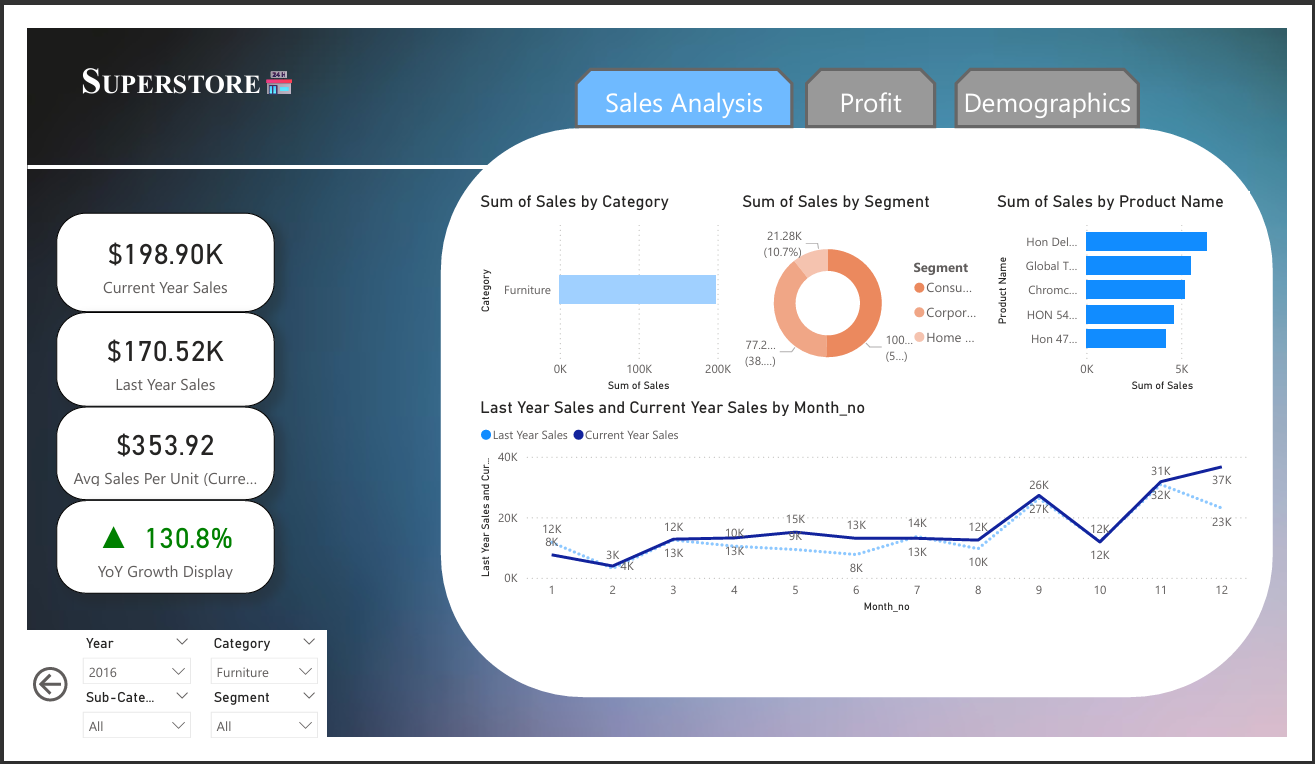

The page's visual inventory and layout, read from the dashboard file:
{"tool":"powerbi","page":{"name":"Sales Analysis","canvas":[1280,720],"ordinal":0},"visuals":[{"type":"clusteredBarChart","fields":{"Category":["orders.Category Hierarchy.Category","orders.Category Hierarchy.Sub-Category"],"Y":["Sum(orders.Sales)"]},"box":[454.6,164.9,265.4,208.7],"z":0,"group":"g2"},{"type":"group","id":"g1","title":"Group 2","box":[28.7,187.4,222.3,387.2],"z":0},{"type":"card","fields":{"Values":["Date.Current Year Sales"]},"box":[28.7,187.4,222.3,101.2],"z":0,"group":"g1"},{"type":"shape","box":[419.7,101.2,845.6,578.3],"z":1000},{"type":"donutChart","fields":{"Y":["Sum(orders.Sales)"],"Category":["orders.Segment"]},"box":[720.4,165.2,259.3,208.6],"z":1000,"group":"g2"},{"type":"card","fields":{"Values":["orders.Last Year Sales"]},"box":[28.7,288.6,222.3,96.2],"z":1000,"group":"g1"},{"type":"group","id":"g2","title":"Group 1","box":[454.6,164.9,786.9,432.2],"z":2000},{"type":"clusteredBarChart","fields":{"Y":["Sum(orders.Sales)"],"Category":["orders.Product Name"]},"box":[979.8,165.2,262.3,208.6],"z":2000,"group":"g2"},{"type":"card","fields":{"Values":["orders.Avg Sales Per Unit (Current)"]},"box":[28.7,384.7,222.3,94.9],"z":2000,"group":"g1"},{"type":"lineChart","fields":{"Category":["orders.Month_no"],"Y":["orders.Last Year Sales","Date.Current Year Sales"]},"box":[454.6,373.6,787.8,224.4],"z":3000,"group":"g2"},{"type":"card","fields":{"Values":["orders.YoY Growth Display"]},"box":[28.7,479.7,222.3,94.9],"z":3000,"group":"g1"},{"type":"textbox","box":[0,26.2,328.5,63.7],"z":4000},{"type":"shape","box":[0,76.2,478.4,128.6],"z":5000},{"type":"shape","box":[0,597.2,305.1,121.5],"z":6000},{"type":"shape","box":[556.2,39.8,222,61.5],"z":7000},{"type":"shape","box":[790.2,39.8,132.7,61.5],"z":8000},{"type":"shape","box":[942.2,39.8,188.2,61.5],"z":9000}]}

Visuals, with their boxes on the page's 1280x720 design canvas (x1, y1, x2, y2). These are canvas units, not pixel positions in the 1315x764 screenshot, which may show the page scaled, cropped or inside an application window:
clusteredBarChart - orders.Category Hierarchy.Category x orders.Category Hierarchy.Sub-Category: select_region(455, 165, 720, 374)
"Group 2" group: select_region(29, 187, 251, 575)
card - Date.Current Year Sales: select_region(29, 187, 251, 289)
shape: select_region(420, 101, 1265, 680)
donutChart - Sum(orders.Sales) x orders.Segment: select_region(720, 165, 980, 374)
card - orders.Last Year Sales: select_region(29, 289, 251, 385)
"Group 1" group: select_region(455, 165, 1242, 597)
clusteredBarChart - Sum(orders.Sales) x orders.Product Name: select_region(980, 165, 1242, 374)
card - orders.Avg Sales Per Unit (Current): select_region(29, 385, 251, 480)
lineChart - orders.Month_no x orders.Last Year Sales: select_region(455, 374, 1242, 598)
card - orders.YoY Growth Display: select_region(29, 480, 251, 575)
textbox: select_region(0, 26, 328, 90)
shape: select_region(0, 76, 478, 205)
shape: select_region(0, 597, 305, 719)
shape: select_region(556, 40, 778, 101)
shape: select_region(790, 40, 923, 101)
shape: select_region(942, 40, 1130, 101)
